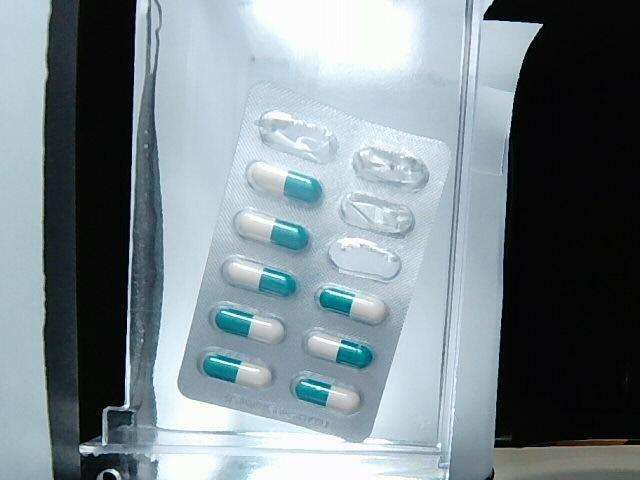Light Front: (176, 78, 451, 446)
No Pill Front: (256, 110, 338, 163), (353, 145, 429, 189), (340, 193, 415, 237), (329, 238, 401, 282)
Pill Front: (234, 209, 310, 250), (248, 161, 323, 202), (223, 256, 296, 295), (211, 305, 284, 343), (318, 286, 388, 324), (305, 330, 373, 368), (293, 376, 360, 412), (203, 353, 271, 387)
